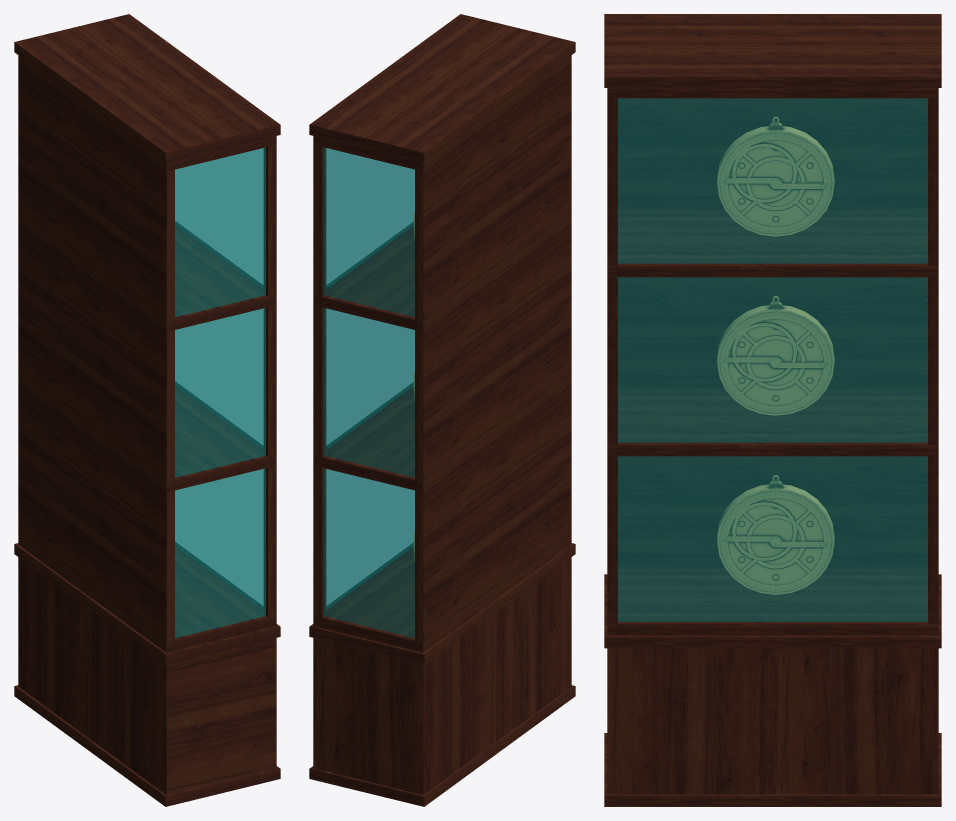
Rendered from ShelfCoin.fbx.
3 views of the same model, side by side, from view 1: azimuth 30°, elevation 25°; view 2: azimuth 150°, elevation 25°; view 3: azimuth 270°, elevation 25° (orthographic). The views are drawn at different scales.
Parts seen in each view (by area): view 1: ShelfCoin; view 2: ShelfCoin; view 3: ShelfCoin.
Part boxes in pixels (x1,y1,x2,y2): ShelfCoin: (14, 14, 280, 806); ShelfCoin: (309, 14, 575, 806); ShelfCoin: (604, 14, 941, 806).
Size of the model in its own units: 2.67 by 14.54 by 6.09.
3 materials, 2 textured.
